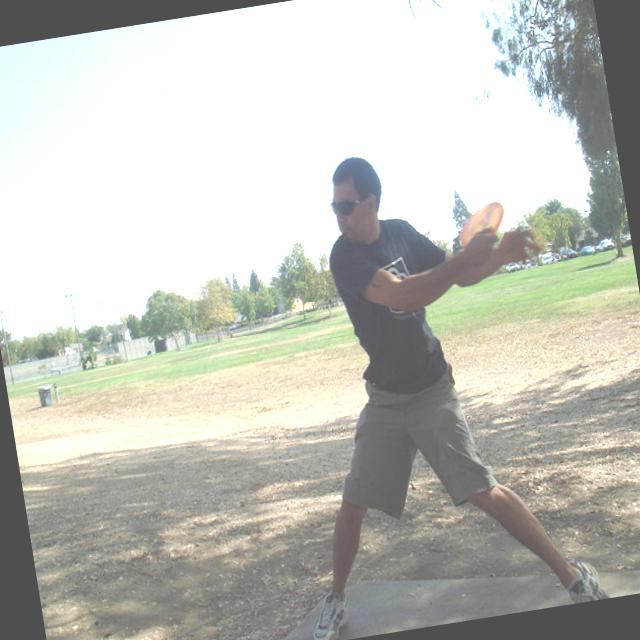Vehicle: (505, 261, 522, 275), (597, 238, 615, 251), (540, 252, 556, 266), (520, 258, 538, 270), (580, 244, 596, 255), (620, 234, 632, 246), (567, 247, 578, 260), (592, 244, 606, 254)
